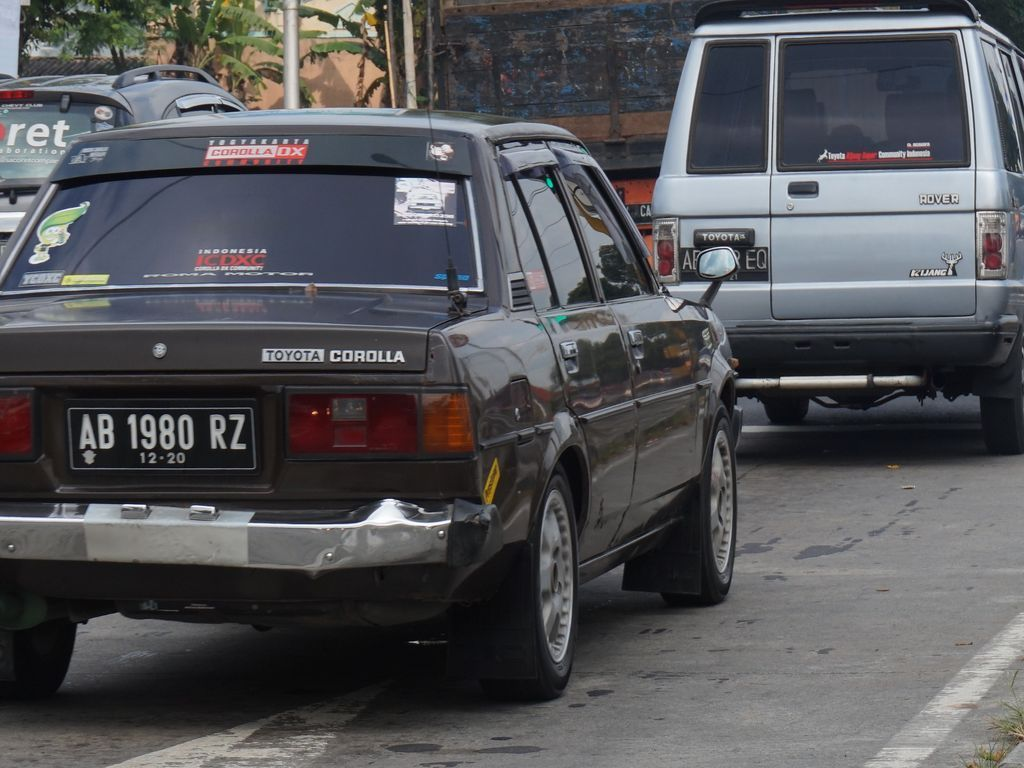plate: (73, 409, 249, 465)
